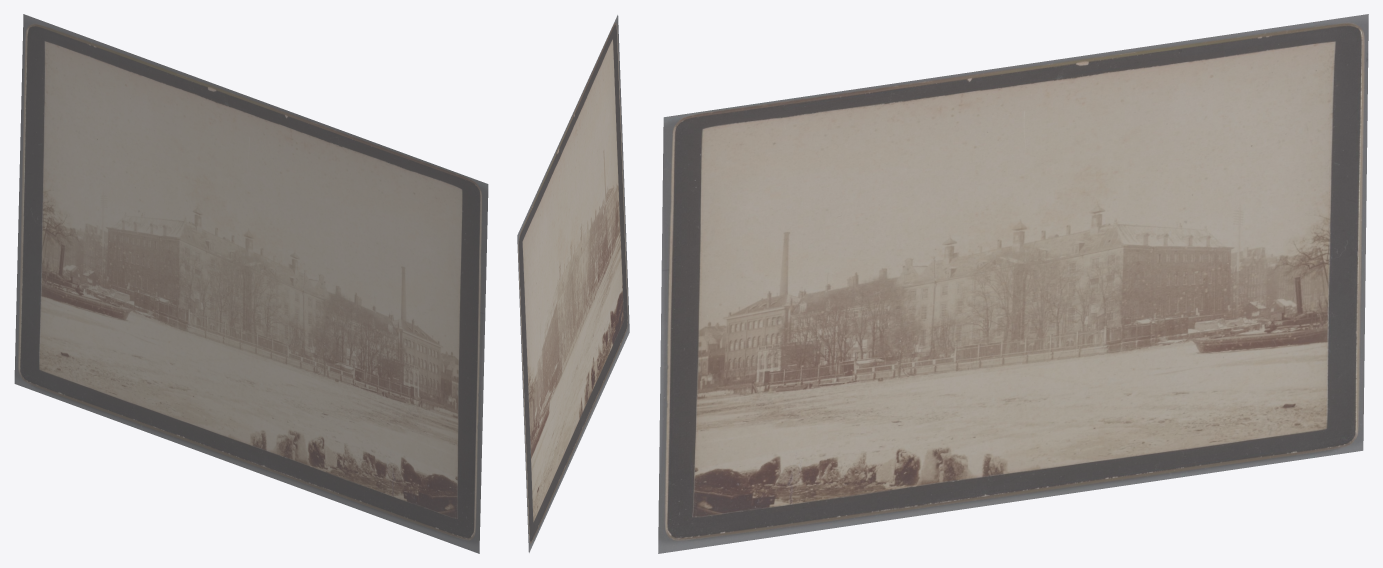
The model's file is 1887-1888_diaconieweeshuis_rechts_diamantfabriek_Pieter_oosterh.glb.
The picture shows the model from 3 angles, left to right: view 1: azimuth 30°, elevation 25°; view 2: azimuth 150°, elevation 25°; view 3: azimuth 270°, elevation 25°; orthographic projection. The views are drawn at different scales.
Parts seen in each view (by area): view 1: 1887-1888_diaconieweeshuis_rechts_diamantfabriek_Pieter_oost; view 2: 1887-1888_diaconieweeshuis_rechts_diamantfabriek_Pieter_oost; view 3: 1887-1888_diaconieweeshuis_rechts_diamantfabriek_Pieter_oost.
Boxes of the visible parts, box(x1,y1,x2,y2) form: 1887-1888_diaconieweeshuis_rechts_diamantfabriek_Pieter_oost: box(14, 14, 488, 553); 1887-1888_diaconieweeshuis_rechts_diamantfabriek_Pieter_oost: box(517, 15, 629, 552); 1887-1888_diaconieweeshuis_rechts_diamantfabriek_Pieter_oost: box(658, 14, 1368, 553).
Size of the model in its own units: 10.72 by 20.17 by 29.3.
1 material, 1 textured.
